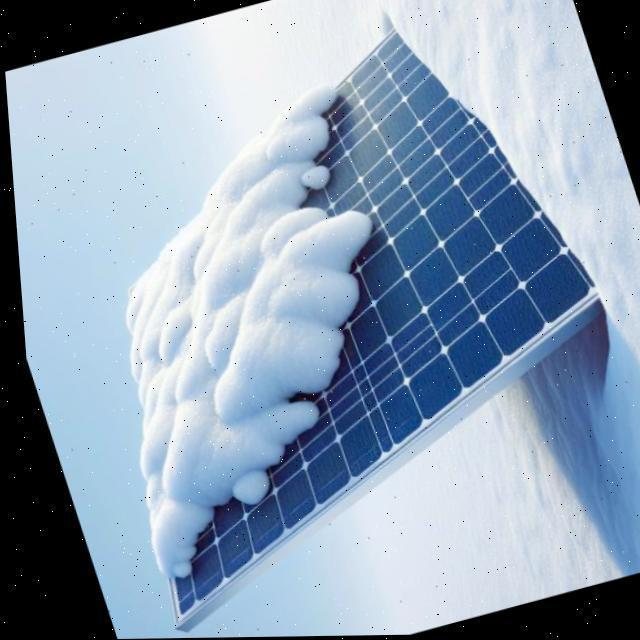Anomaly Solar Panel: (18, 24, 600, 620)
Snow: (55, 36, 421, 607)
